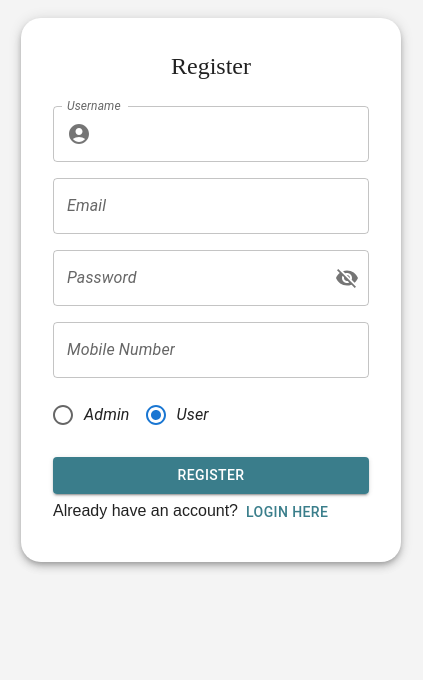
Scenario: RegisterForm Component › validates password field
Click the button "Register" at (211,476), box x1=53 y1=457 x2=369 y2=494
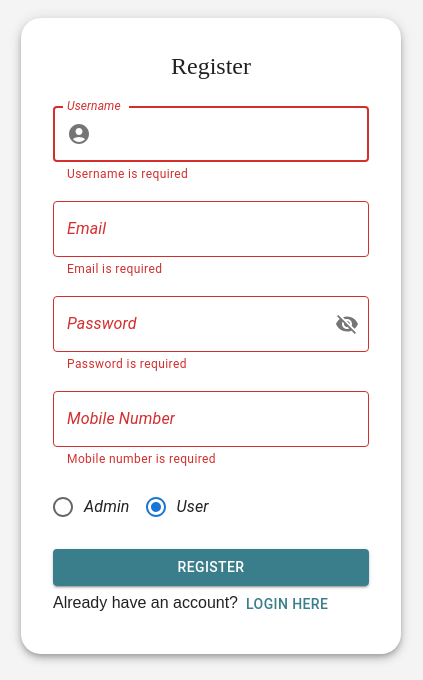
Now the text "Password is required" is shown, box x1=67 y1=357 x2=187 y2=371
Type "123" into the password field labelled "Password" at (186,324), box x1=53 y1=296 x2=319 y2=352
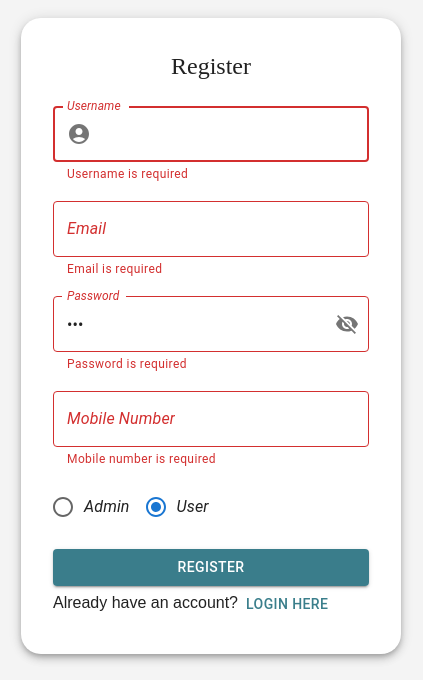
Click the button "Register" at (211,567), box x1=53 y1=549 x2=369 y2=586
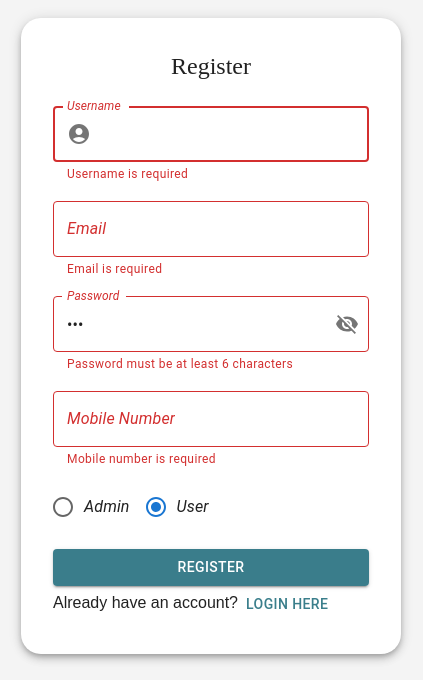
Now the text "Password must be at least 6 characters" is shown, box x1=67 y1=357 x2=293 y2=371
